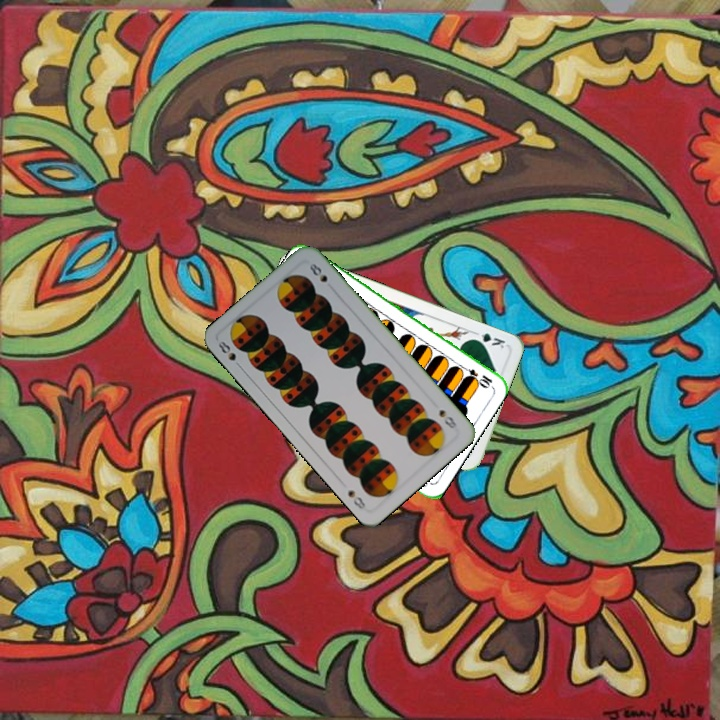E10: (457, 362, 495, 389)
GK: (468, 327, 508, 352)
S8: (214, 337, 245, 371), (435, 405, 460, 431)
